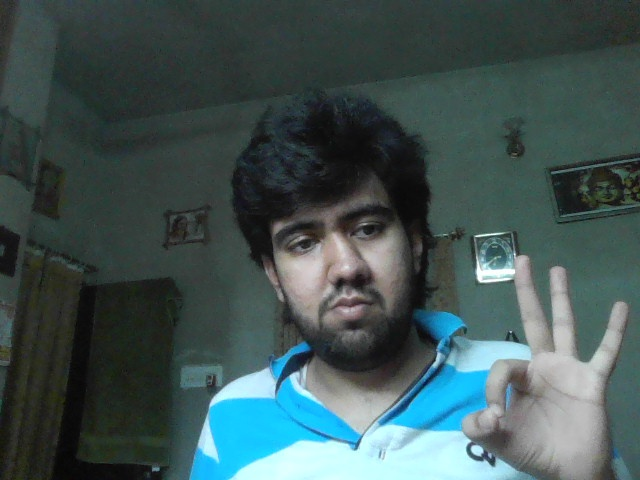Nice: (462, 254, 628, 480)
